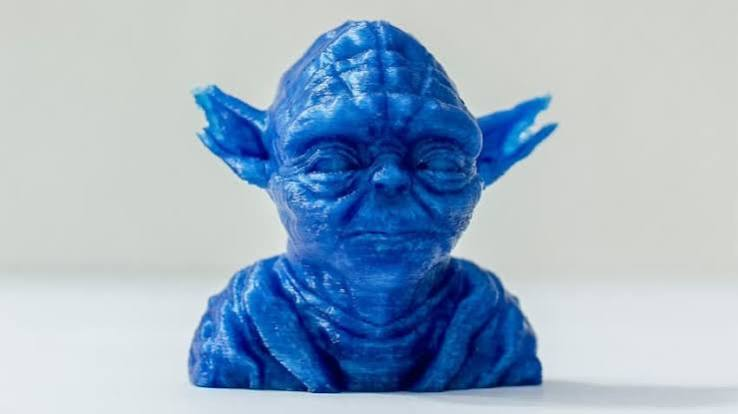3d print: (189, 21, 554, 391)
